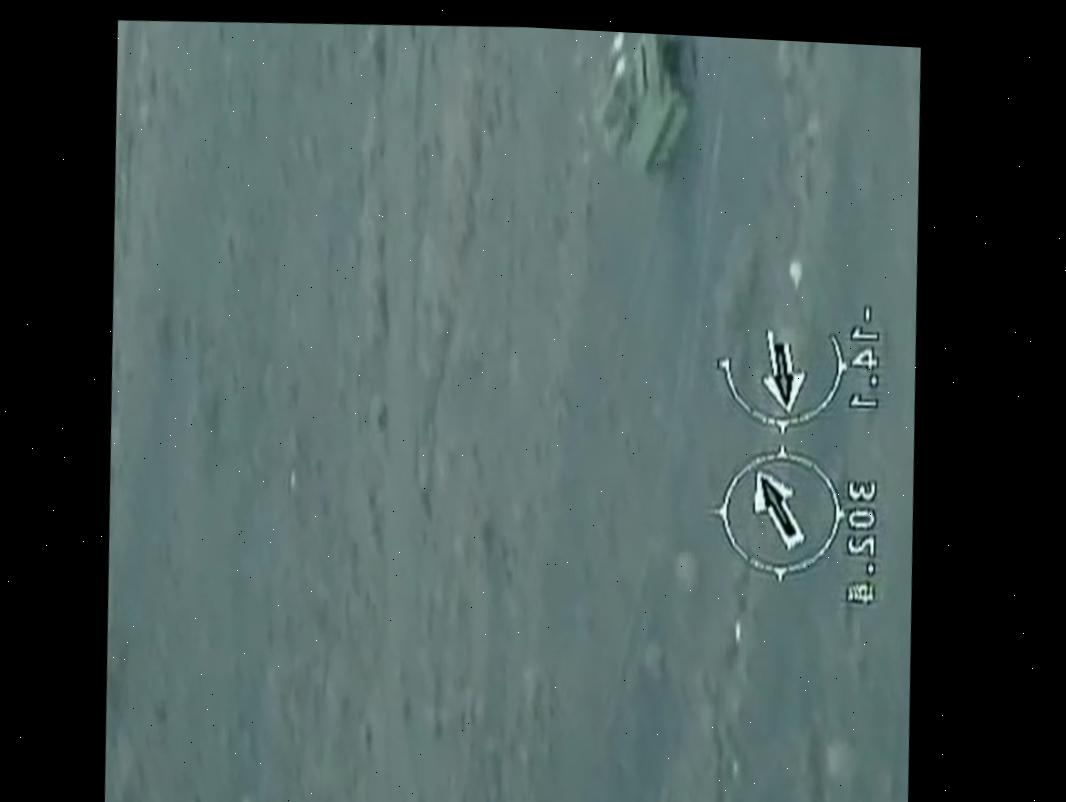armored_car: (585, 31, 699, 184)
